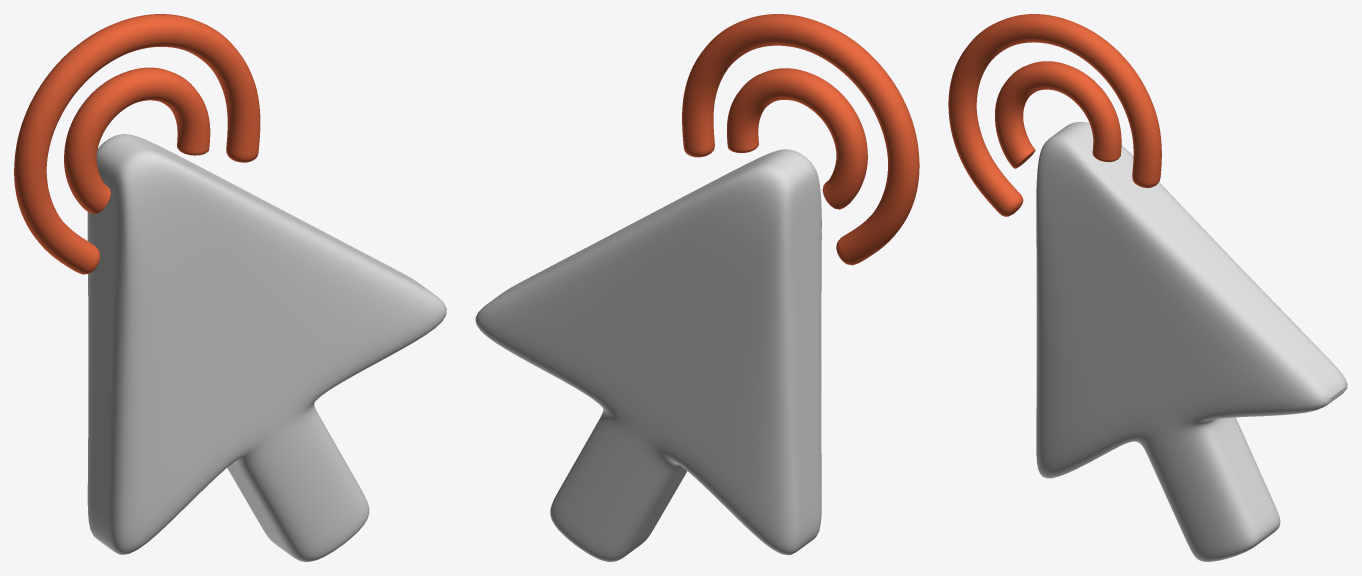
The picture shows the model from 3 angles, left to right: view 1: azimuth 30°, elevation 25°; view 2: azimuth 150°, elevation 25°; view 3: azimuth 330°, elevation 25°; orthographic projection. The views are drawn at different scales.
Parts seen in each view (by area): view 1: Plane.024, Circle.003; view 2: Plane.024, Circle.003; view 3: Plane.024, Circle.003.
Part boxes in pixels (left/top/right/bottom): Plane.024: left=87, top=134, right=446, bottom=561; Circle.003: left=14, top=14, right=260, bottom=274; Plane.024: left=475, top=149, right=821, bottom=561; Circle.003: left=682, top=14, right=919, bottom=265; Plane.024: left=1036, top=122, right=1347, bottom=561; Circle.003: left=948, top=14, right=1161, bottom=216.
Size of the model in its own units: 3.7 by 4.78 by 0.6663.
